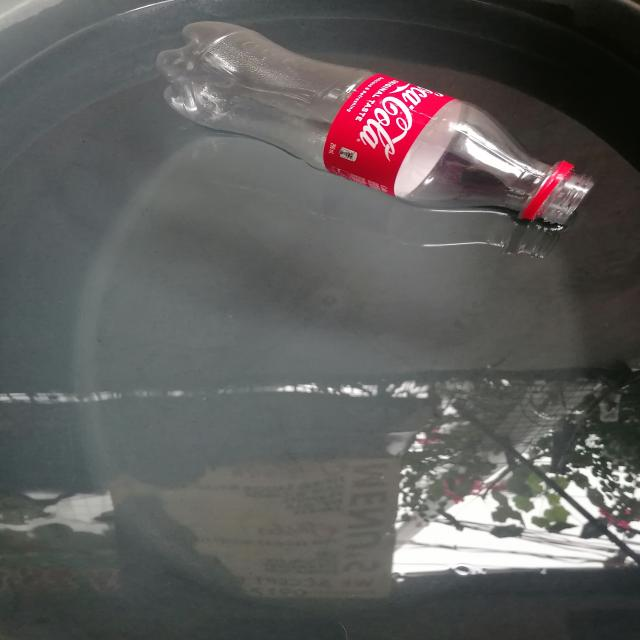Plastic Bottle: (141, 9, 610, 244)
